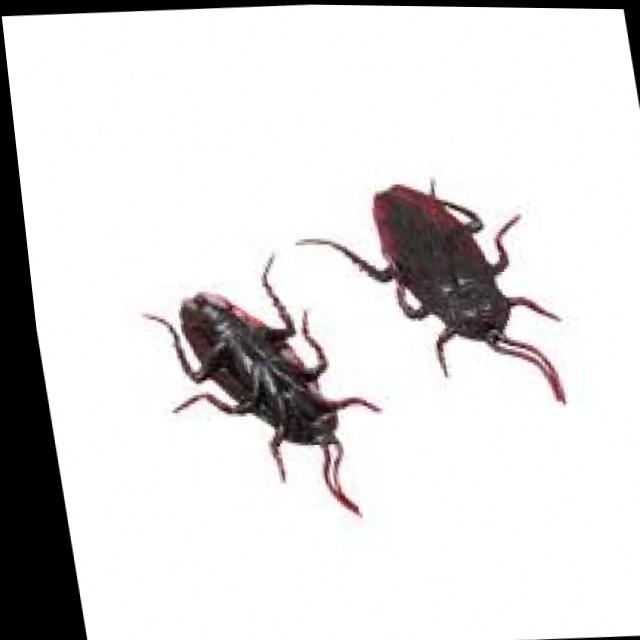Cockroach: (293, 130, 619, 415), (122, 251, 389, 504)
